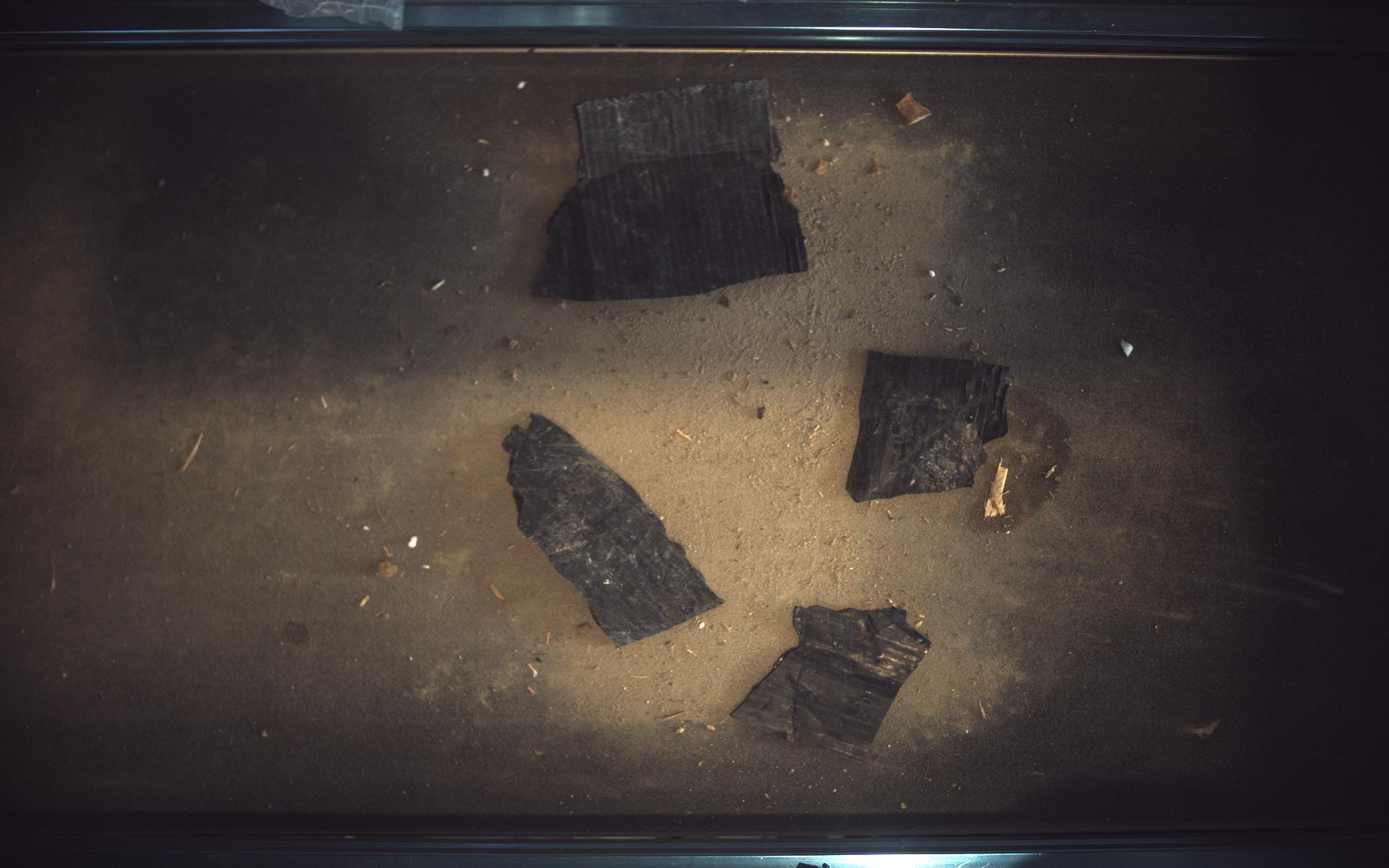plastic: (533, 78, 809, 300), (503, 414, 723, 647), (732, 606, 932, 759), (848, 351, 1012, 502)
